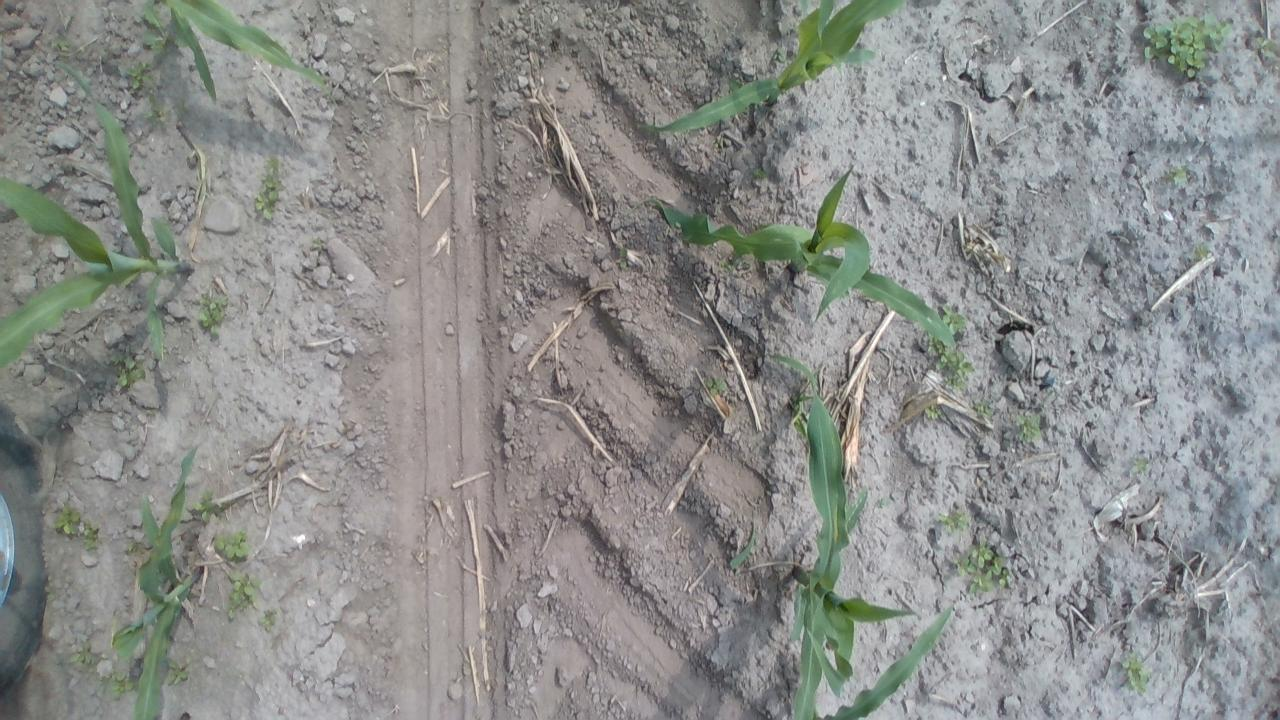Maize: (0, 54, 197, 388), (632, 165, 964, 352), (756, 349, 920, 720), (632, 0, 914, 149), (108, 440, 206, 720), (130, 0, 338, 104), (804, 603, 956, 720)
Weeds: (1141, 7, 1232, 82), (926, 328, 979, 395), (952, 536, 1009, 596), (136, 6, 190, 59), (253, 151, 290, 222), (54, 503, 102, 550), (197, 288, 232, 344), (1114, 650, 1154, 698), (222, 570, 258, 622), (210, 526, 253, 568), (1008, 410, 1052, 451), (697, 376, 744, 410), (108, 350, 145, 390), (188, 491, 223, 526), (716, 254, 755, 282), (123, 63, 154, 98), (938, 304, 968, 337), (934, 505, 969, 532), (108, 668, 137, 698), (68, 642, 99, 670), (165, 654, 190, 687), (114, 540, 150, 561), (971, 397, 1000, 422), (1168, 164, 1192, 192), (1128, 454, 1154, 478), (145, 95, 168, 122), (919, 402, 948, 423), (1254, 36, 1274, 65), (48, 30, 72, 52), (258, 606, 278, 632), (1194, 240, 1216, 262), (750, 160, 770, 181), (770, 42, 787, 66)
